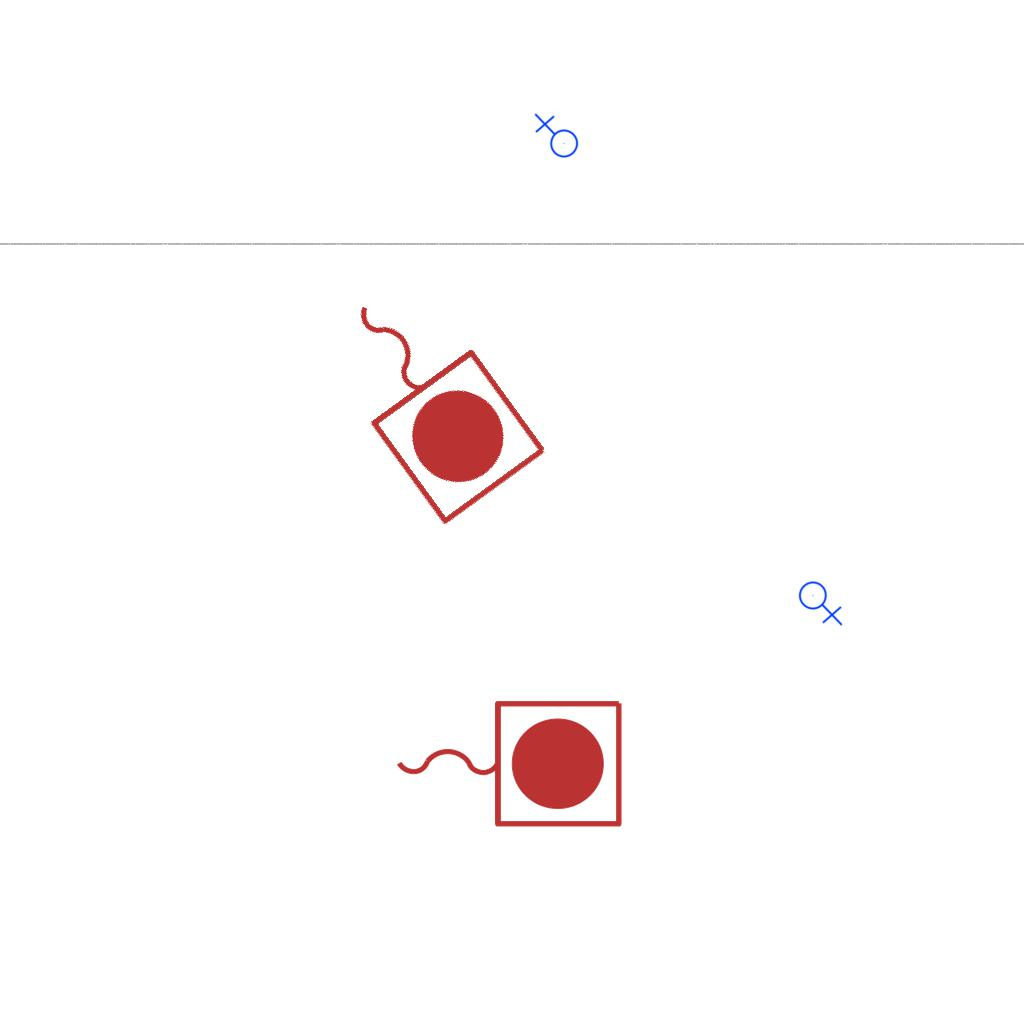Elektroanschluss_allgemein_230V_Geraeteanschlussdose_230V: (532, 113, 579, 162), (798, 577, 845, 626)
Zugtaster: (300, 253, 560, 537), (386, 690, 630, 834)
